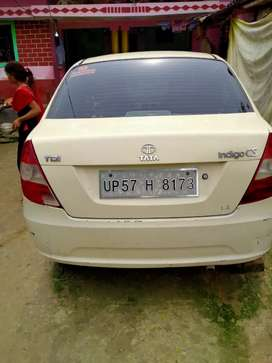UP57H8173: (100, 170, 197, 197)
